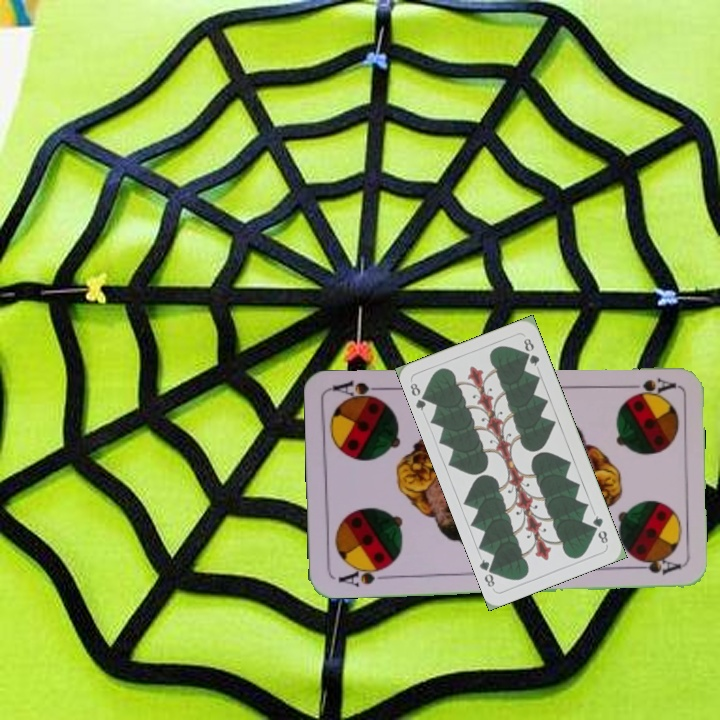G8: (406, 379, 432, 413), (589, 511, 611, 546)
SA: (334, 562, 391, 590), (619, 373, 678, 398)
